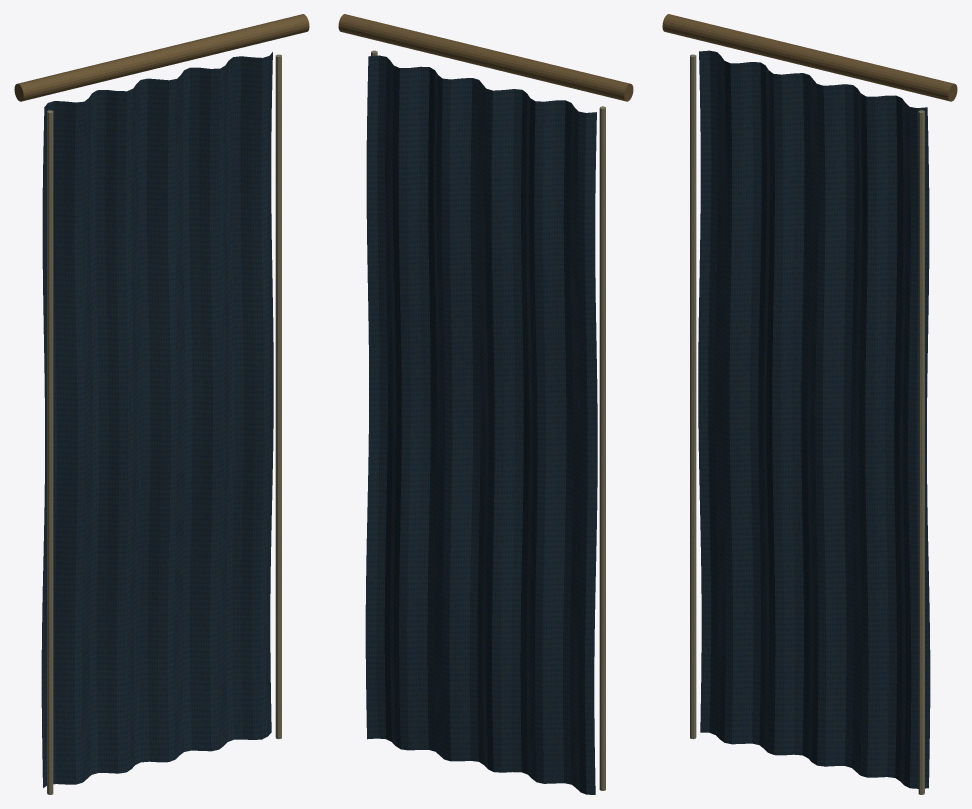
The model's file is furn_com_tapestry_01.dae.
3 views of the same model, side by side, from view 1: azimuth 30°, elevation 25°; view 2: azimuth 150°, elevation 25°; view 3: azimuth 330°, elevation 25° (orthographic).
Parts seen in each view (by area): view 1: navy, linen, bronze; view 2: navy, bronze, linen; view 3: navy, linen, bronze.
Part boxes in pixels (bbox=[...]): navy: bbox=[41, 52, 273, 787]; linen: bbox=[47, 54, 281, 794]; bronze: bbox=[14, 14, 309, 101]; navy: bbox=[365, 55, 597, 794]; bronze: bbox=[338, 14, 633, 101]; linen: bbox=[371, 50, 605, 790]; navy: bbox=[698, 50, 930, 788]; linen: bbox=[690, 54, 924, 794]; bronze: bbox=[662, 14, 957, 101].
Bounding box in the file's own units: 50 × 4.1 × 119.
